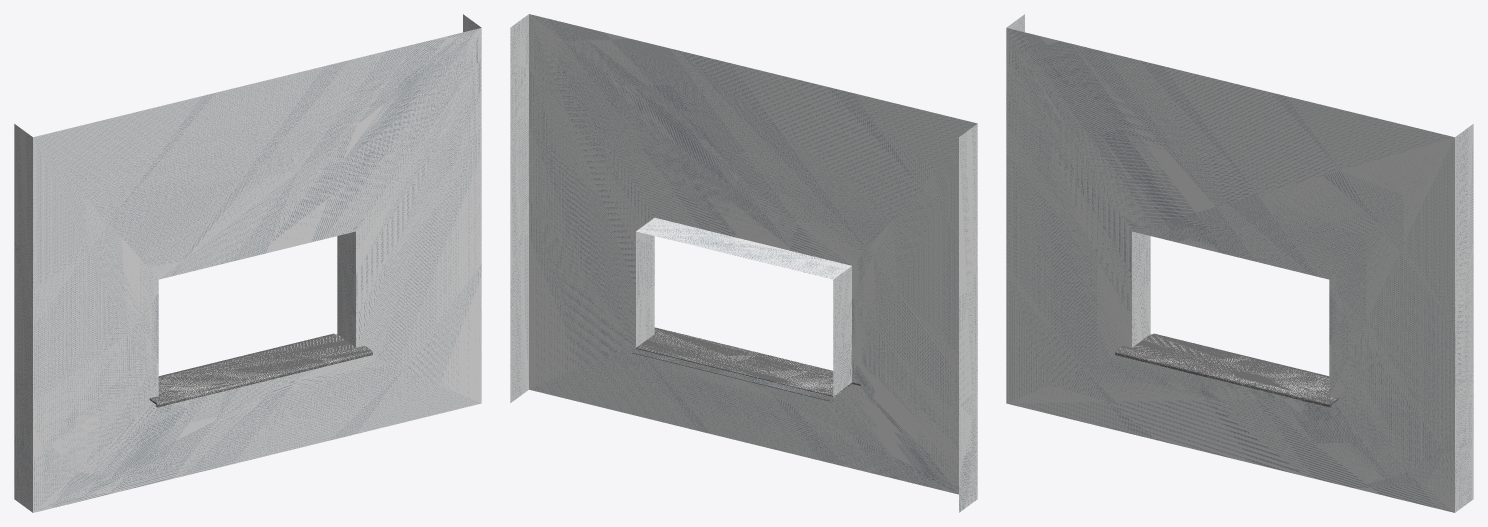
Rendered from WindowBlock_os_[500x400]_220x124x[090].dae.
3 views of the same model, side by side, from view 1: azimuth 30°, elevation 25°; view 2: azimuth 150°, elevation 25°; view 3: azimuth 330°, elevation 25° (orthographic).
Visible parts, largest first — view 1: group_2 (×2), group_1; view 2: group_2 (×2), group_1 (×2); view 3: group_2 (×2), group_1.
Part boxes in pixels (x1,y1,x2,y2): group_2 (×2): (14, 14, 481, 512); group_1: (149, 334, 372, 407); group_2 (×2): (510, 14, 977, 512); group_1 (×2): (632, 327, 860, 401); group_2 (×2): (1006, 14, 1473, 512); group_1: (1115, 334, 1337, 407).
Size of the model in its own units: 197 by 23.03 by 157.
